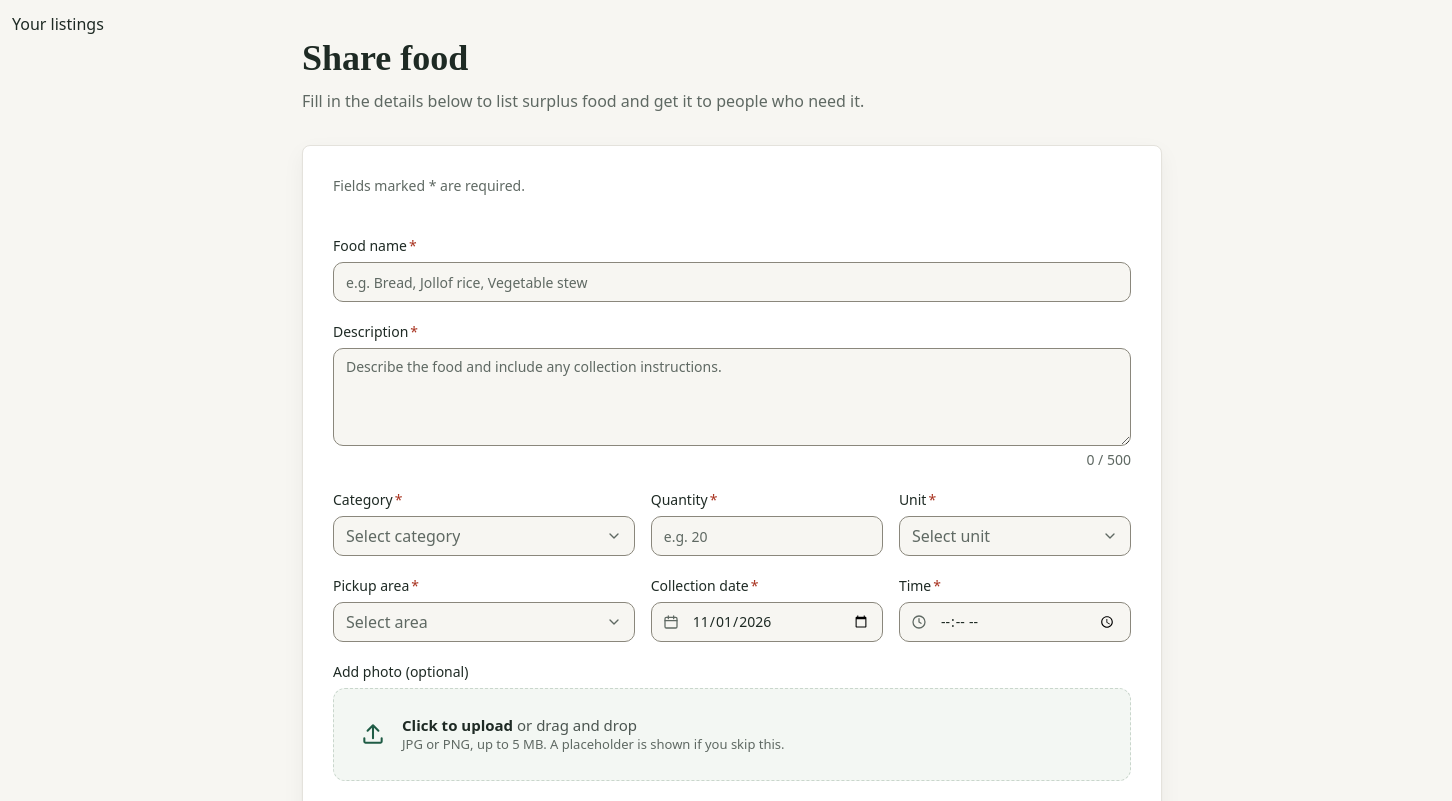
Test: Share food: leaving with changes › doesn't ask when nothing has changed
The width and height of the screenshot is (1452, 801).
What coordinates should you click on to do the following:
click the link "Your listings"
I would click on:
 (58, 24)
Its box is [12, 13, 104, 35].
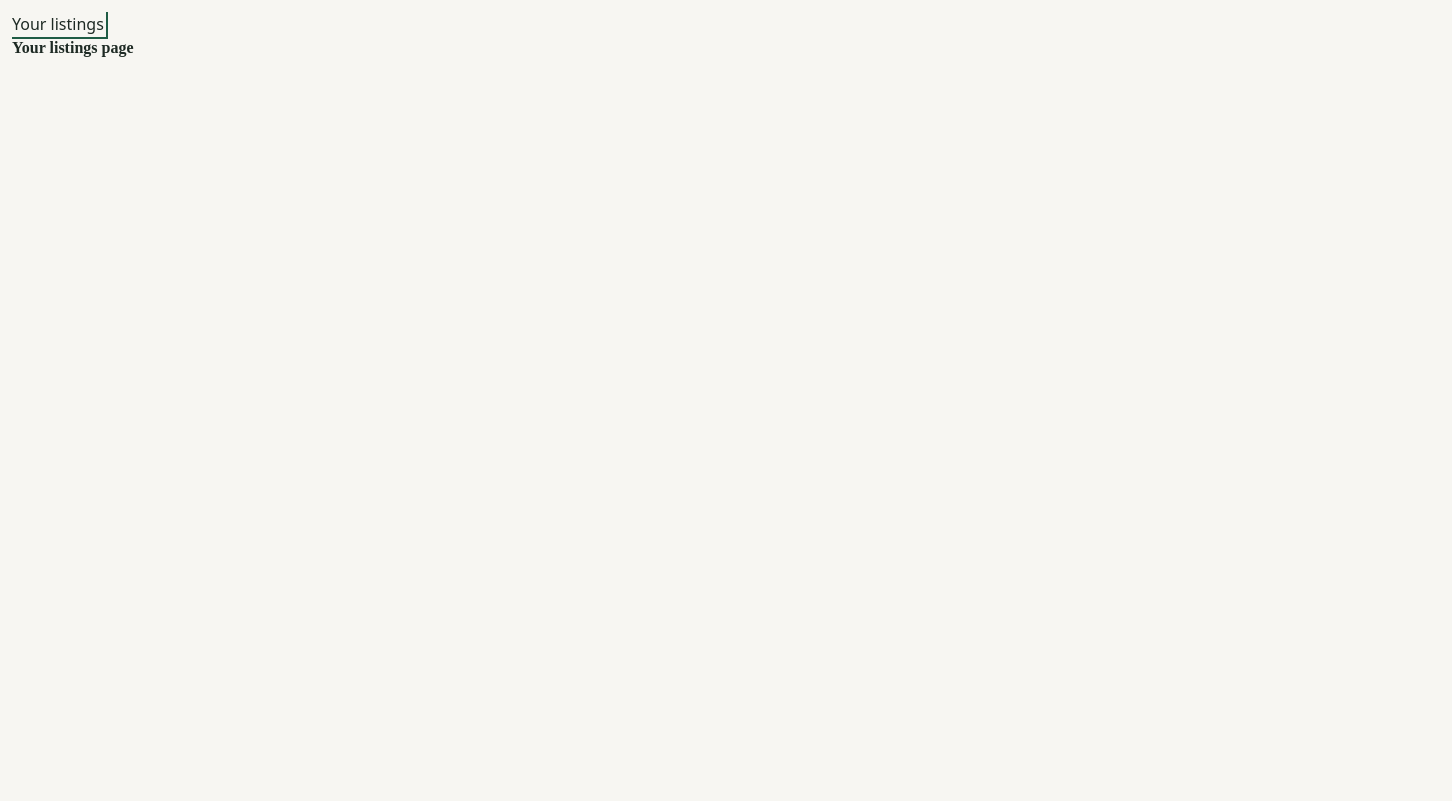
Check: the heading "Your listings page" is shown, box [12, 39, 134, 56]
